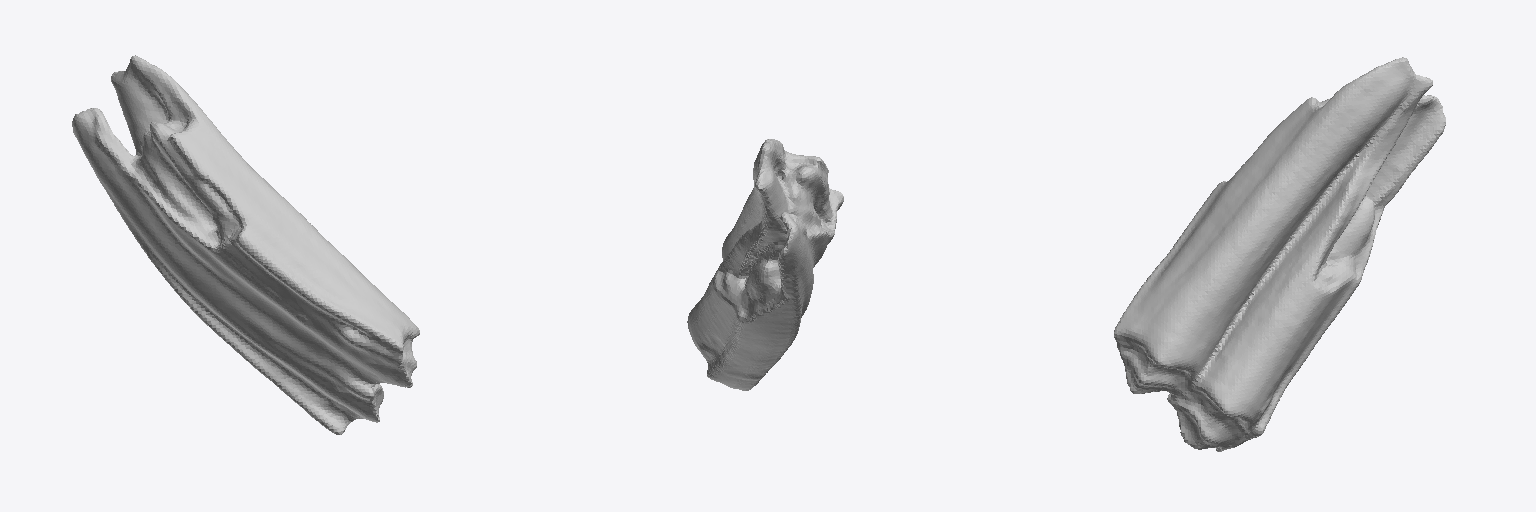
Rendered from MB Ovis 19 M2.obj.
3 renders of one model, left to right at view 1: azimuth 30°, elevation 25°; view 2: azimuth 150°, elevation 25°; view 3: azimuth 270°, elevation 25°, orthographic.
Size of the model in its own units: 21.71 by 33.44 by 29.7.